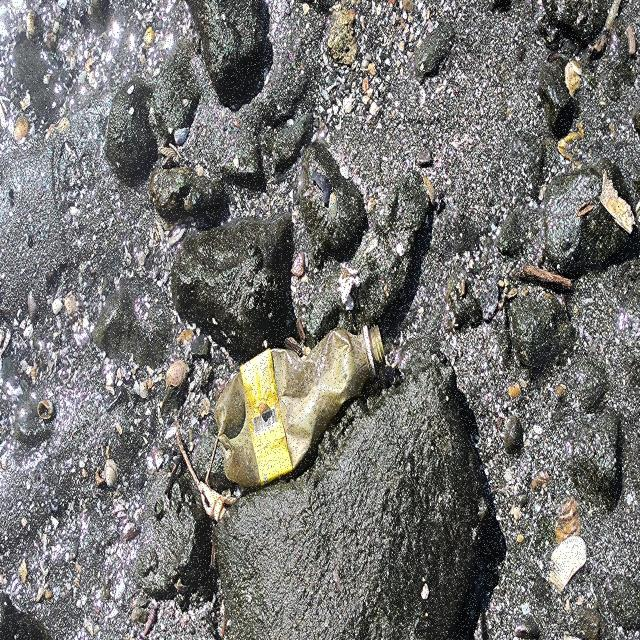plastic_waste: (214, 322, 388, 493)
